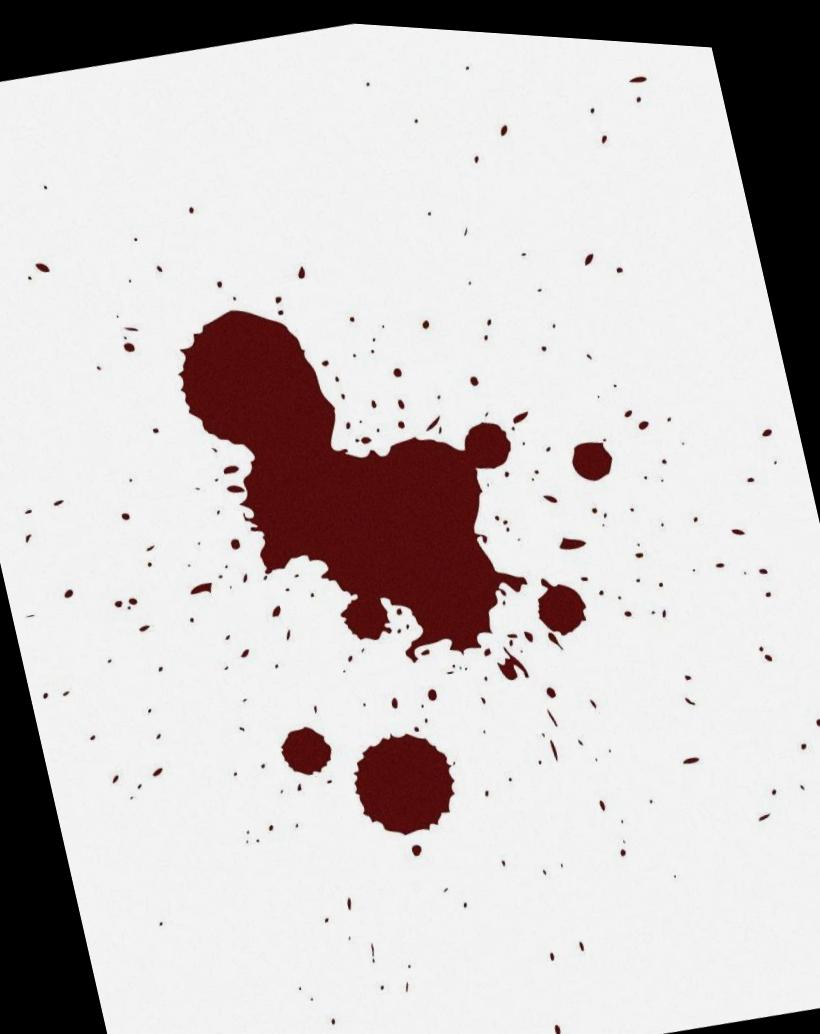Fire: (176, 307, 528, 658), (352, 728, 455, 830), (537, 571, 586, 627), (280, 722, 331, 771), (571, 433, 612, 473)
